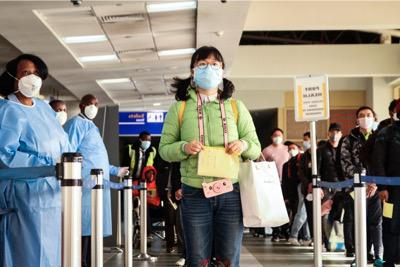with_mask: (192, 58, 223, 91), (17, 66, 41, 99), (356, 113, 374, 130), (83, 101, 98, 121), (53, 108, 67, 127), (328, 130, 343, 143), (271, 133, 283, 147), (139, 138, 150, 150), (288, 147, 298, 158), (302, 138, 311, 150)
without_mask: (146, 172, 154, 182)
